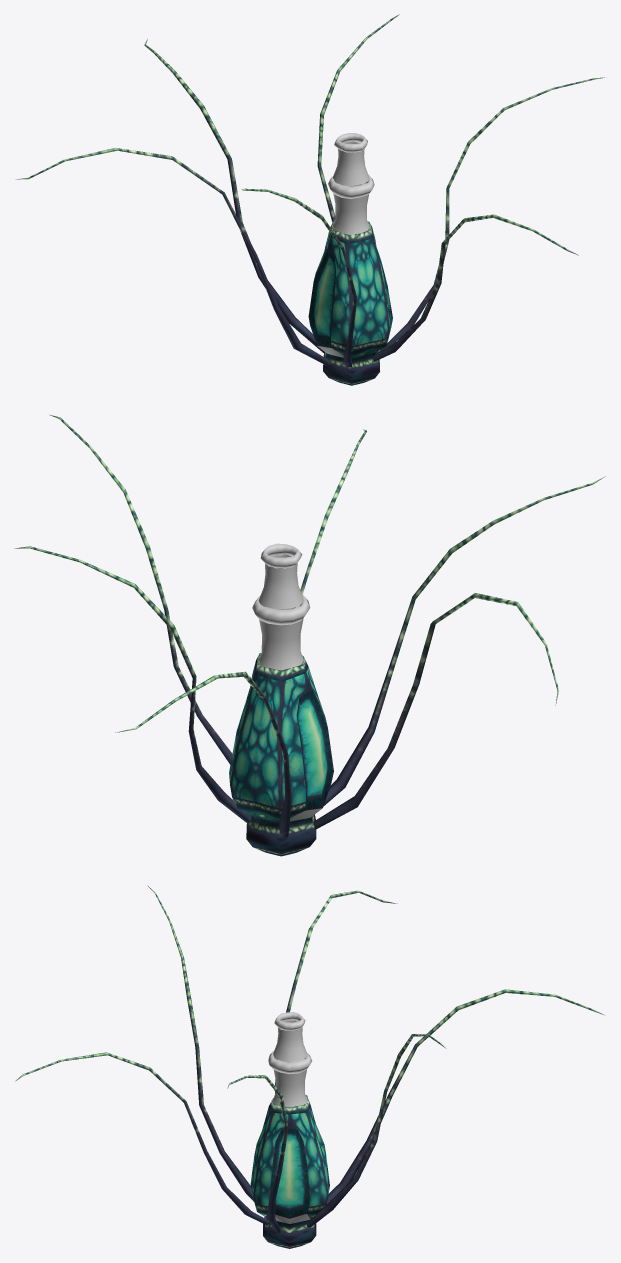
The model's file is Bio_weapon_01_a.fbx.
3 renders of one model, top to bottom at view 1: azimuth 30°, elevation 25°; view 2: azimuth 150°, elevation 25°; view 3: azimuth 270°, elevation 25°, orthographic. The views are drawn at different scales.
Visible parts, largest first — view 1: Bio_weapon_01_a; view 2: Bio_weapon_01_a; view 3: Bio_weapon_01_a.
Part boxes in pixels (left/top/right/bottom): Bio_weapon_01_a: left=15, top=14, right=604, bottom=385; Bio_weapon_01_a: left=14, top=414, right=605, bottom=856; Bio_weapon_01_a: left=15, top=886, right=604, bottom=1248.
Bounding box in the file's own units: 9.87 × 5.48 × 10.79.
